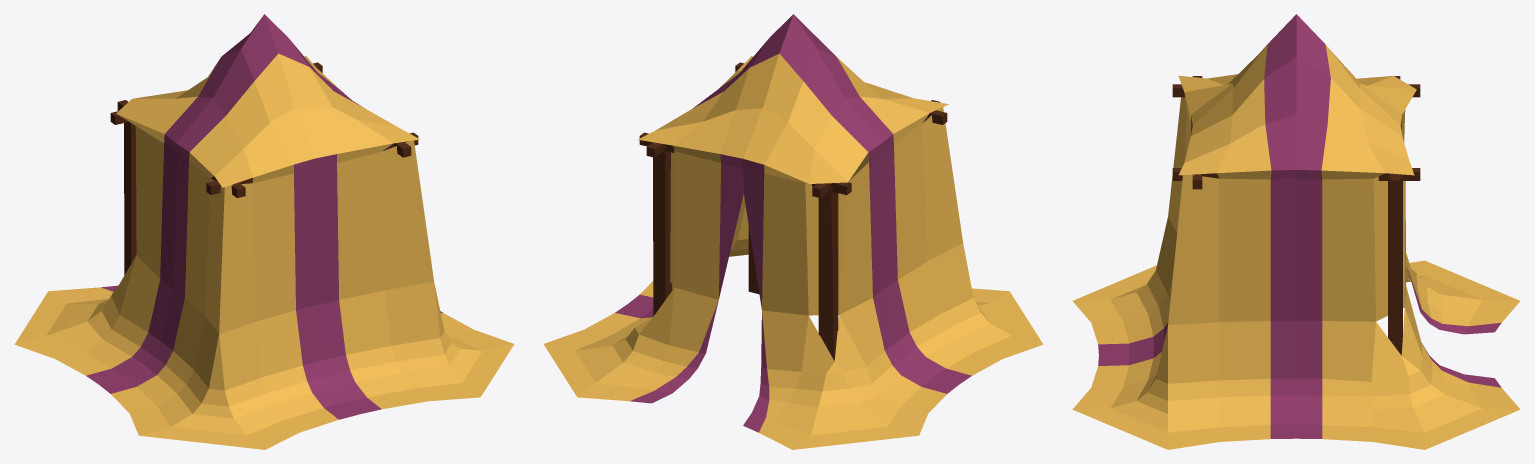
The model's file is TiendaBMykker.fbx.
The picture shows the model from 3 angles, left to right: view 1: azimuth 30°, elevation 25°; view 2: azimuth 150°, elevation 25°; view 3: azimuth 270°, elevation 25°; orthographic projection. The views are drawn at different scales.
Visible parts, largest first — view 1: Tienda.005; view 2: Tienda.005; view 3: Tienda.005.
Part boxes in pixels (x1,y1,x2,y2): Tienda.005: (14,14,514,449); Tienda.005: (543,14,1043,449); Tienda.005: (1072,14,1520,449).
Size of the model in its own units: 453 by 382 by 453.
